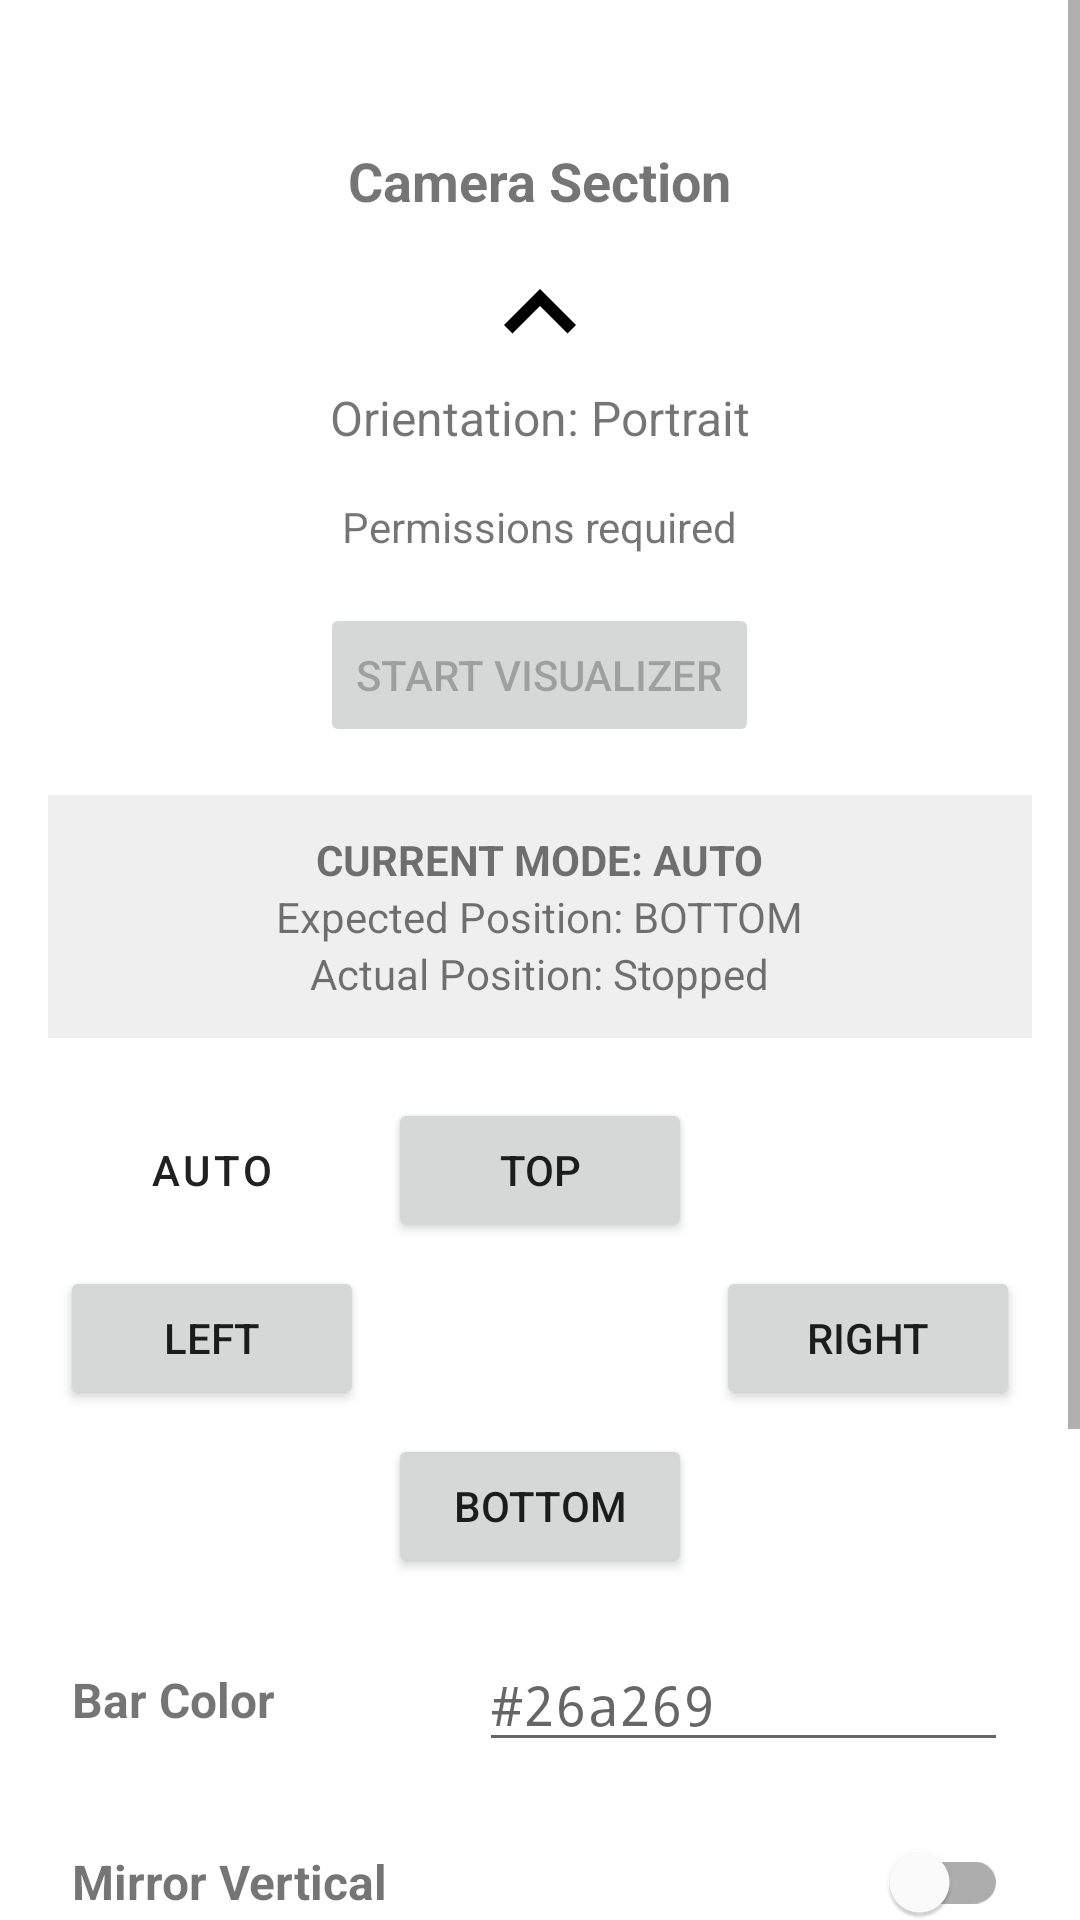

Icon bounding boxes for this 1080x1920 phone screenshot, format rect(x1, y1, x2, y2):
arrow up: rect(504, 289, 576, 334)
